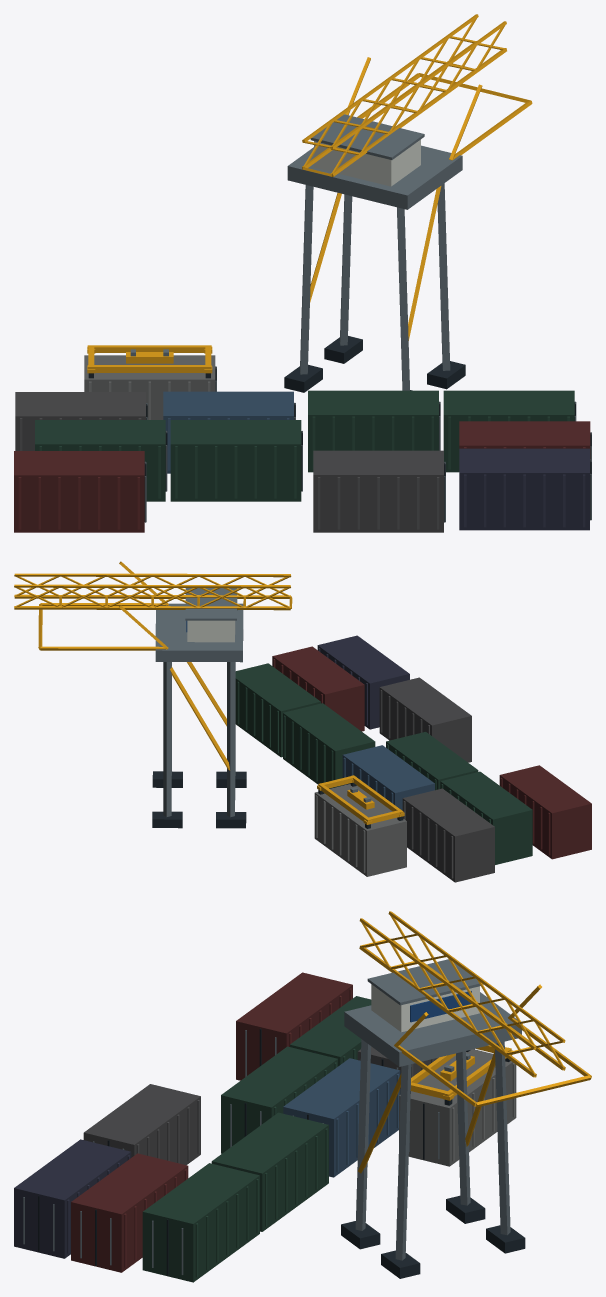
Rendered from gantry-crane-nw-se-06.glb.
3 views of the same model, one above another, from view 1: azimuth 30°, elevation 25°; view 2: azimuth 150°, elevation 25°; view 3: azimuth 270°, elevation 25° (orthographic). The views are drawn at different scales.
Parts seen in each view (by area): view 1: gantry-crane-nw-se-06; view 2: gantry-crane-nw-se-06; view 3: gantry-crane-nw-se-06.
Boxes of the visible parts, x1,y1,x2,y2 form: gantry-crane-nw-se-06: (14, 14, 591, 532); gantry-crane-nw-se-06: (14, 561, 591, 882); gantry-crane-nw-se-06: (14, 911, 591, 1282).
Bounding box in the file's own units: 70.7 × 31.18 × 57.33.
